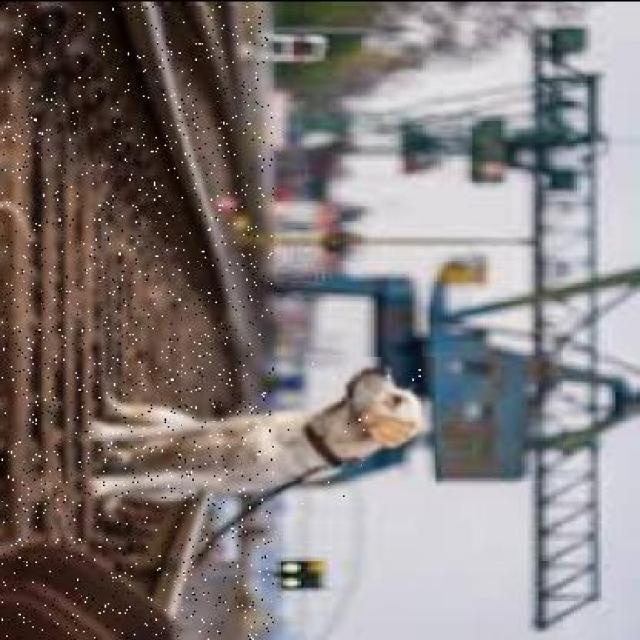rail: (3, 6, 274, 639)
